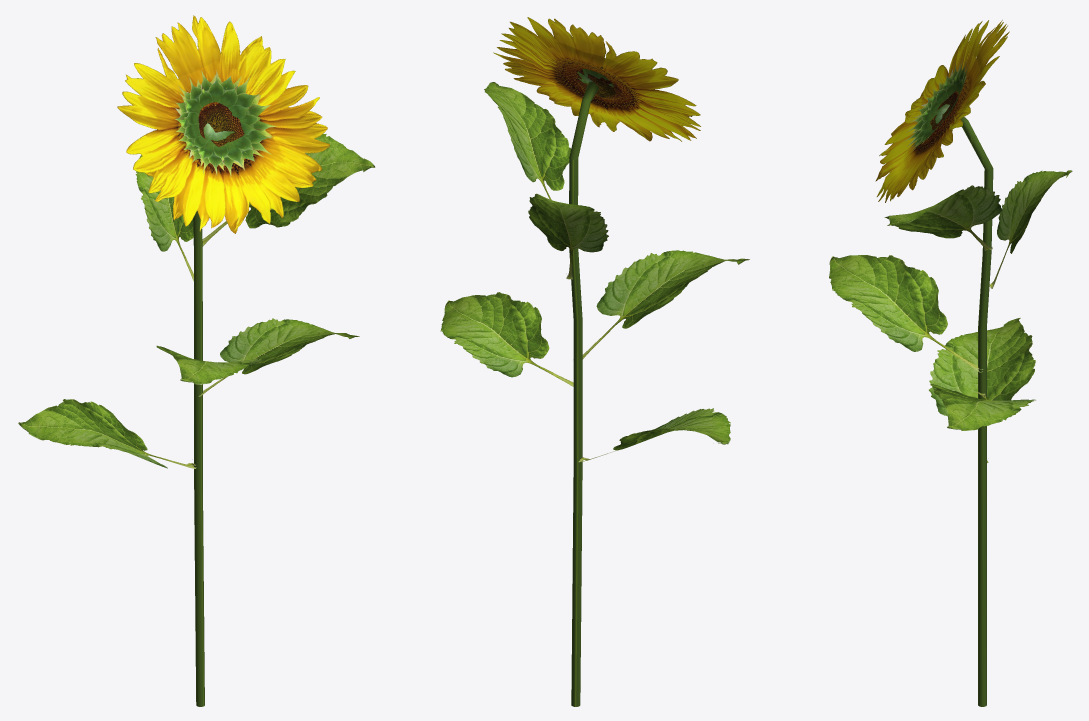
File: Sunflower_grown.fbx
3 renders of one model, left to right at view 1: azimuth 30°, elevation 25°; view 2: azimuth 150°, elevation 25°; view 3: azimuth 270°, elevation 25°, orthographic. The views are drawn at different scales.
Parts seen in each view (by area): view 1: pCylinder3, pCylinder2, pasted__pCube2 (×3), pCube2, pasted__pasted__pCube2; view 2: pasted__pCube2 (×3), pCylinder3, pCylinder2, pasted__pasted__pCube2, pCube2; view 3: pasted__pCube2 (×3), pCylinder3, pCylinder2, pCube2, pasted__pasted__pCube2.
Boxes of the visible parts, x1,y1,x2,y2 form: pCylinder3: (117, 15, 329, 233); pCylinder2: (173, 70, 277, 706); pasted__pCube2 (×3): (156, 134, 375, 396); pCube2: (18, 399, 196, 468); pasted__pasted__pCube2: (135, 155, 193, 281); pasted__pCube2 (×3): (440, 82, 749, 386); pCylinder3: (493, 17, 700, 141); pCylinder2: (569, 67, 613, 706); pasted__pasted__pCube2: (528, 193, 608, 279); pCube2: (578, 408, 730, 462); pasted__pCube2 (×3): (829, 185, 1035, 430); pCylinder3: (875, 20, 1009, 202); pCylinder2: (904, 56, 993, 706); pCube2: (929, 317, 1035, 462); pasted__pasted__pCube2: (989, 170, 1072, 288).
Bounding box in the file's own units: 37.2 × 77.35 × 28.74.
